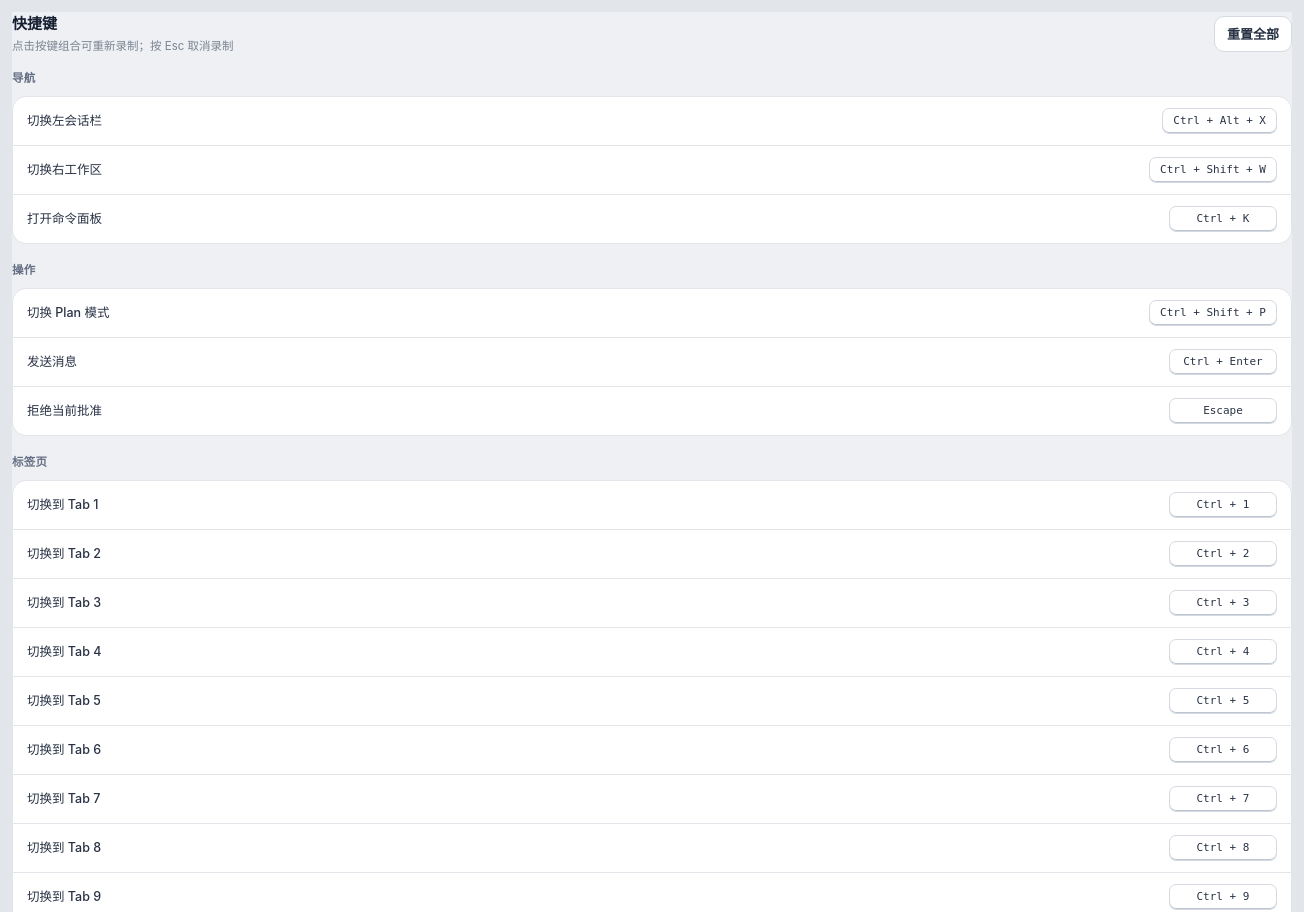
Test case: SettingsShortcutsPanel › reset all clears overrides and persists an empty shortcuts map
This screenshot has width=1304, height=912.
Expected: the text with class "kbd" reads "Ctrl + Alt + X", [1173,114,1266,127]
Click the button "重置全部".
click(1253, 34)  # box [1214,16,1292,52]
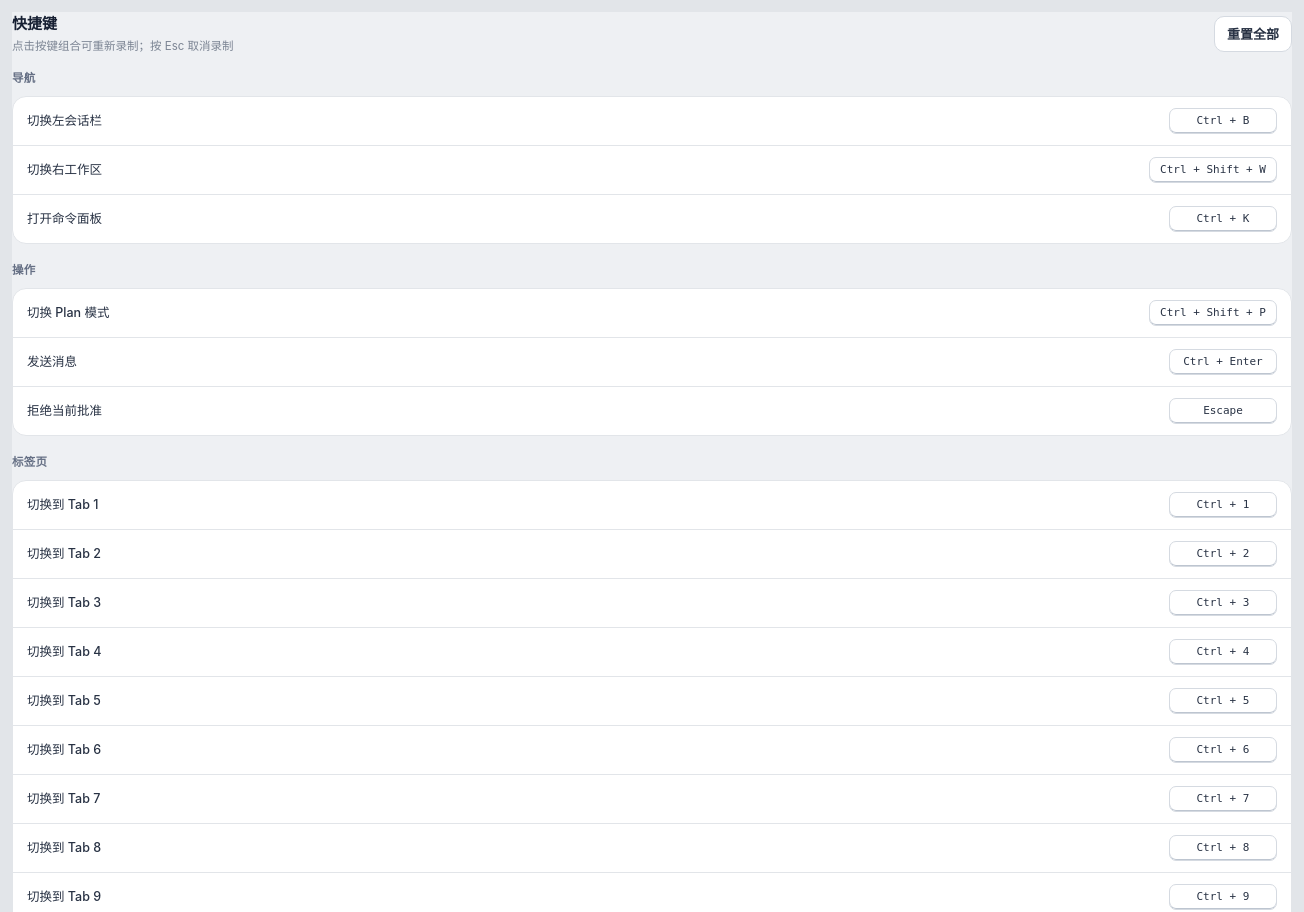
Expected: the text with class "kbd" reads "Ctrl + B", [1196,114,1250,127]
